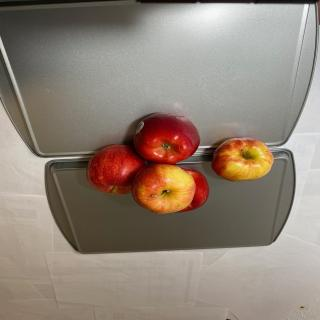Apple: (133, 112, 200, 164), (131, 164, 196, 214), (86, 144, 148, 195), (211, 137, 274, 181), (174, 165, 209, 213)
